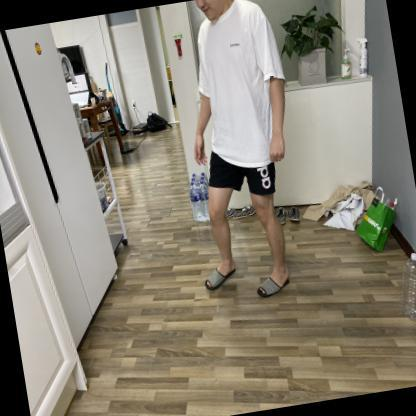no_safety-shoe: (188, 253, 242, 298), (251, 257, 301, 305)
